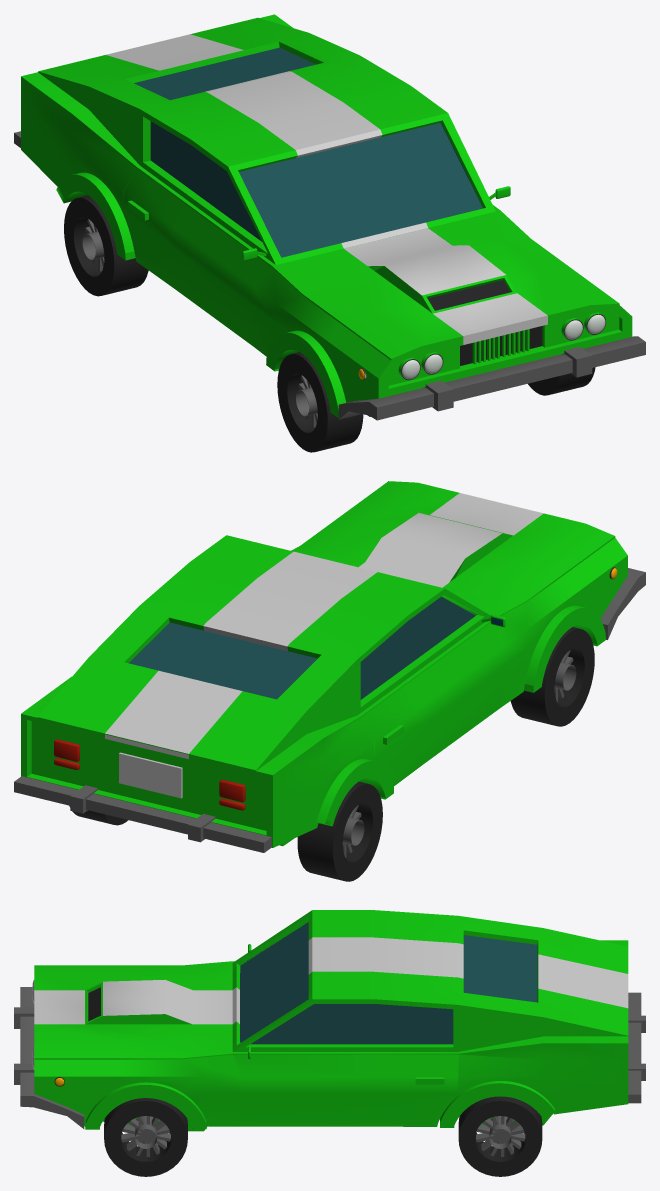
File: Car1.obj
3 views of the same model, one above another, from view 1: azimuth 30°, elevation 25°; view 2: azimuth 150°, elevation 25°; view 3: azimuth 270°, elevation 25° (orthographic). The views are drawn at different scales.
Visible parts, largest first — view 1: Sportcar1_CAR.002; view 2: Sportcar1_CAR.002; view 3: Sportcar1_CAR.002.
Boxes of the visible parts, x1,y1,x2,y2 form: Sportcar1_CAR.002: [14, 14, 645, 452]; Sportcar1_CAR.002: [14, 481, 645, 881]; Sportcar1_CAR.002: [14, 910, 645, 1176].
Bounding box in the file's own units: 3.06 × 2.19 × 7.44.
